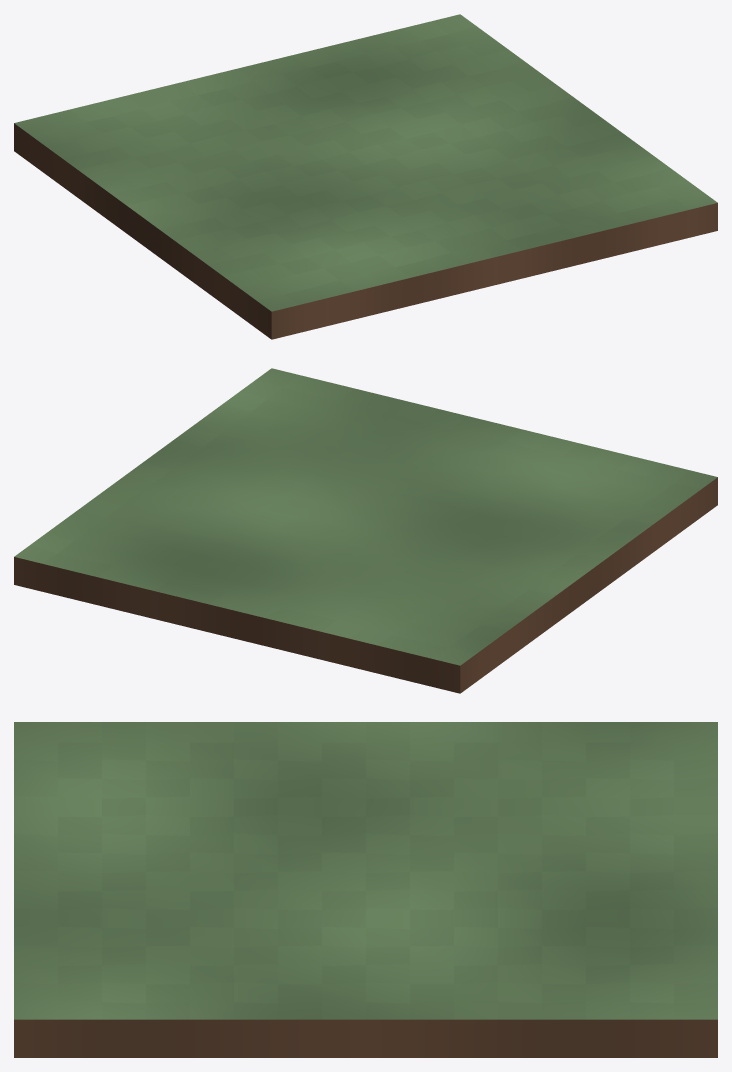
The model's file is ground-tile.glb.
3 views of the same model, one above another, from view 1: azimuth 30°, elevation 25°; view 2: azimuth 150°, elevation 25°; view 3: azimuth 270°, elevation 25° (orthographic). The views are drawn at different scales.
Parts seen in each view (by area): view 1: ground-tile; view 2: ground-tile; view 3: ground-tile.
Boxes of the visible parts, x1=… form: ground-tile: x1=14, y1=14, x2=717, y2=339; ground-tile: x1=14, y1=368, x2=717, y2=693; ground-tile: x1=14, y1=722, x2=717, y2=1057.
Bounding box in the file's own units: 2 × 0.12 × 2.
